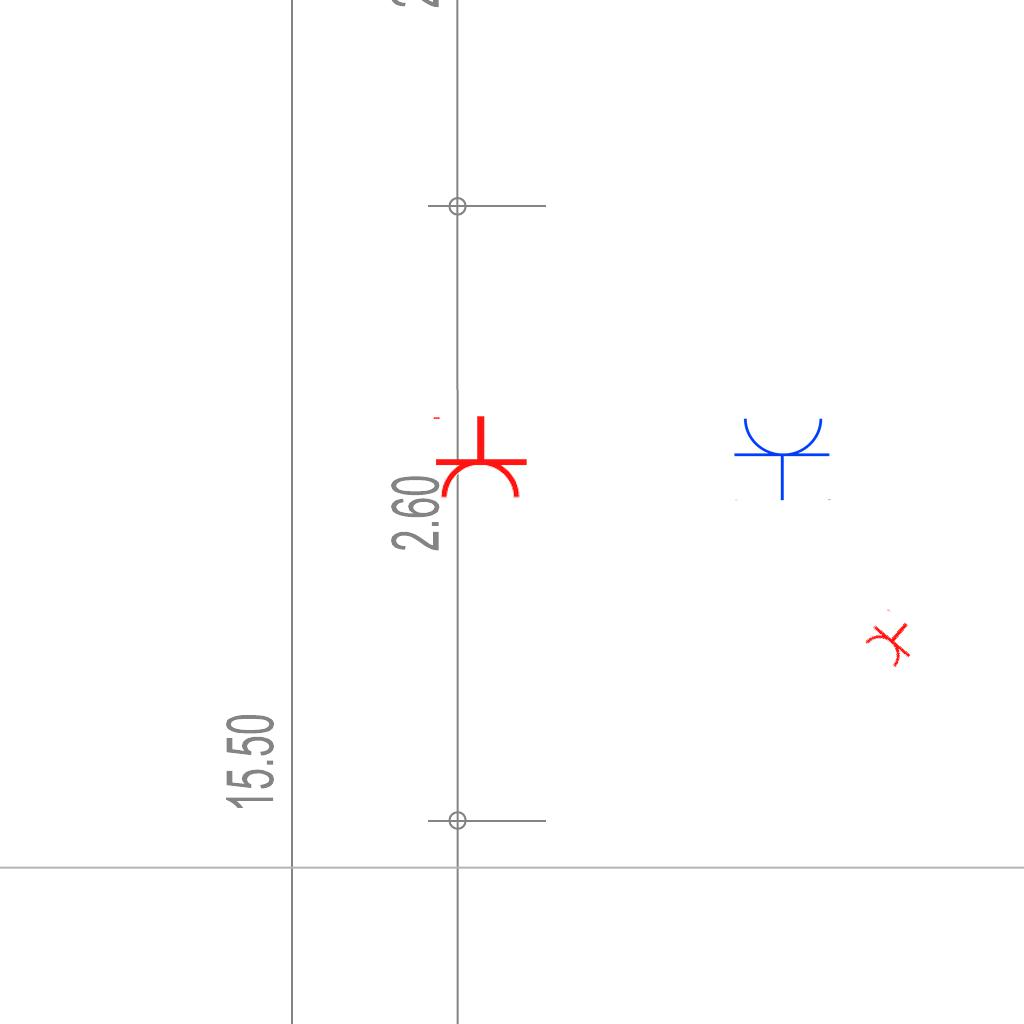Schukosteckdose_einfach: (429, 414, 529, 501), (733, 414, 833, 501), (859, 606, 926, 672)
